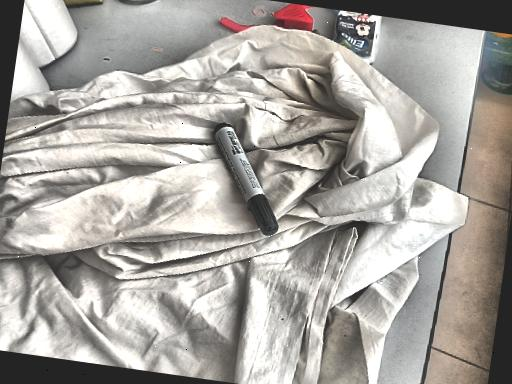marcador negro: (214, 123, 278, 235)
